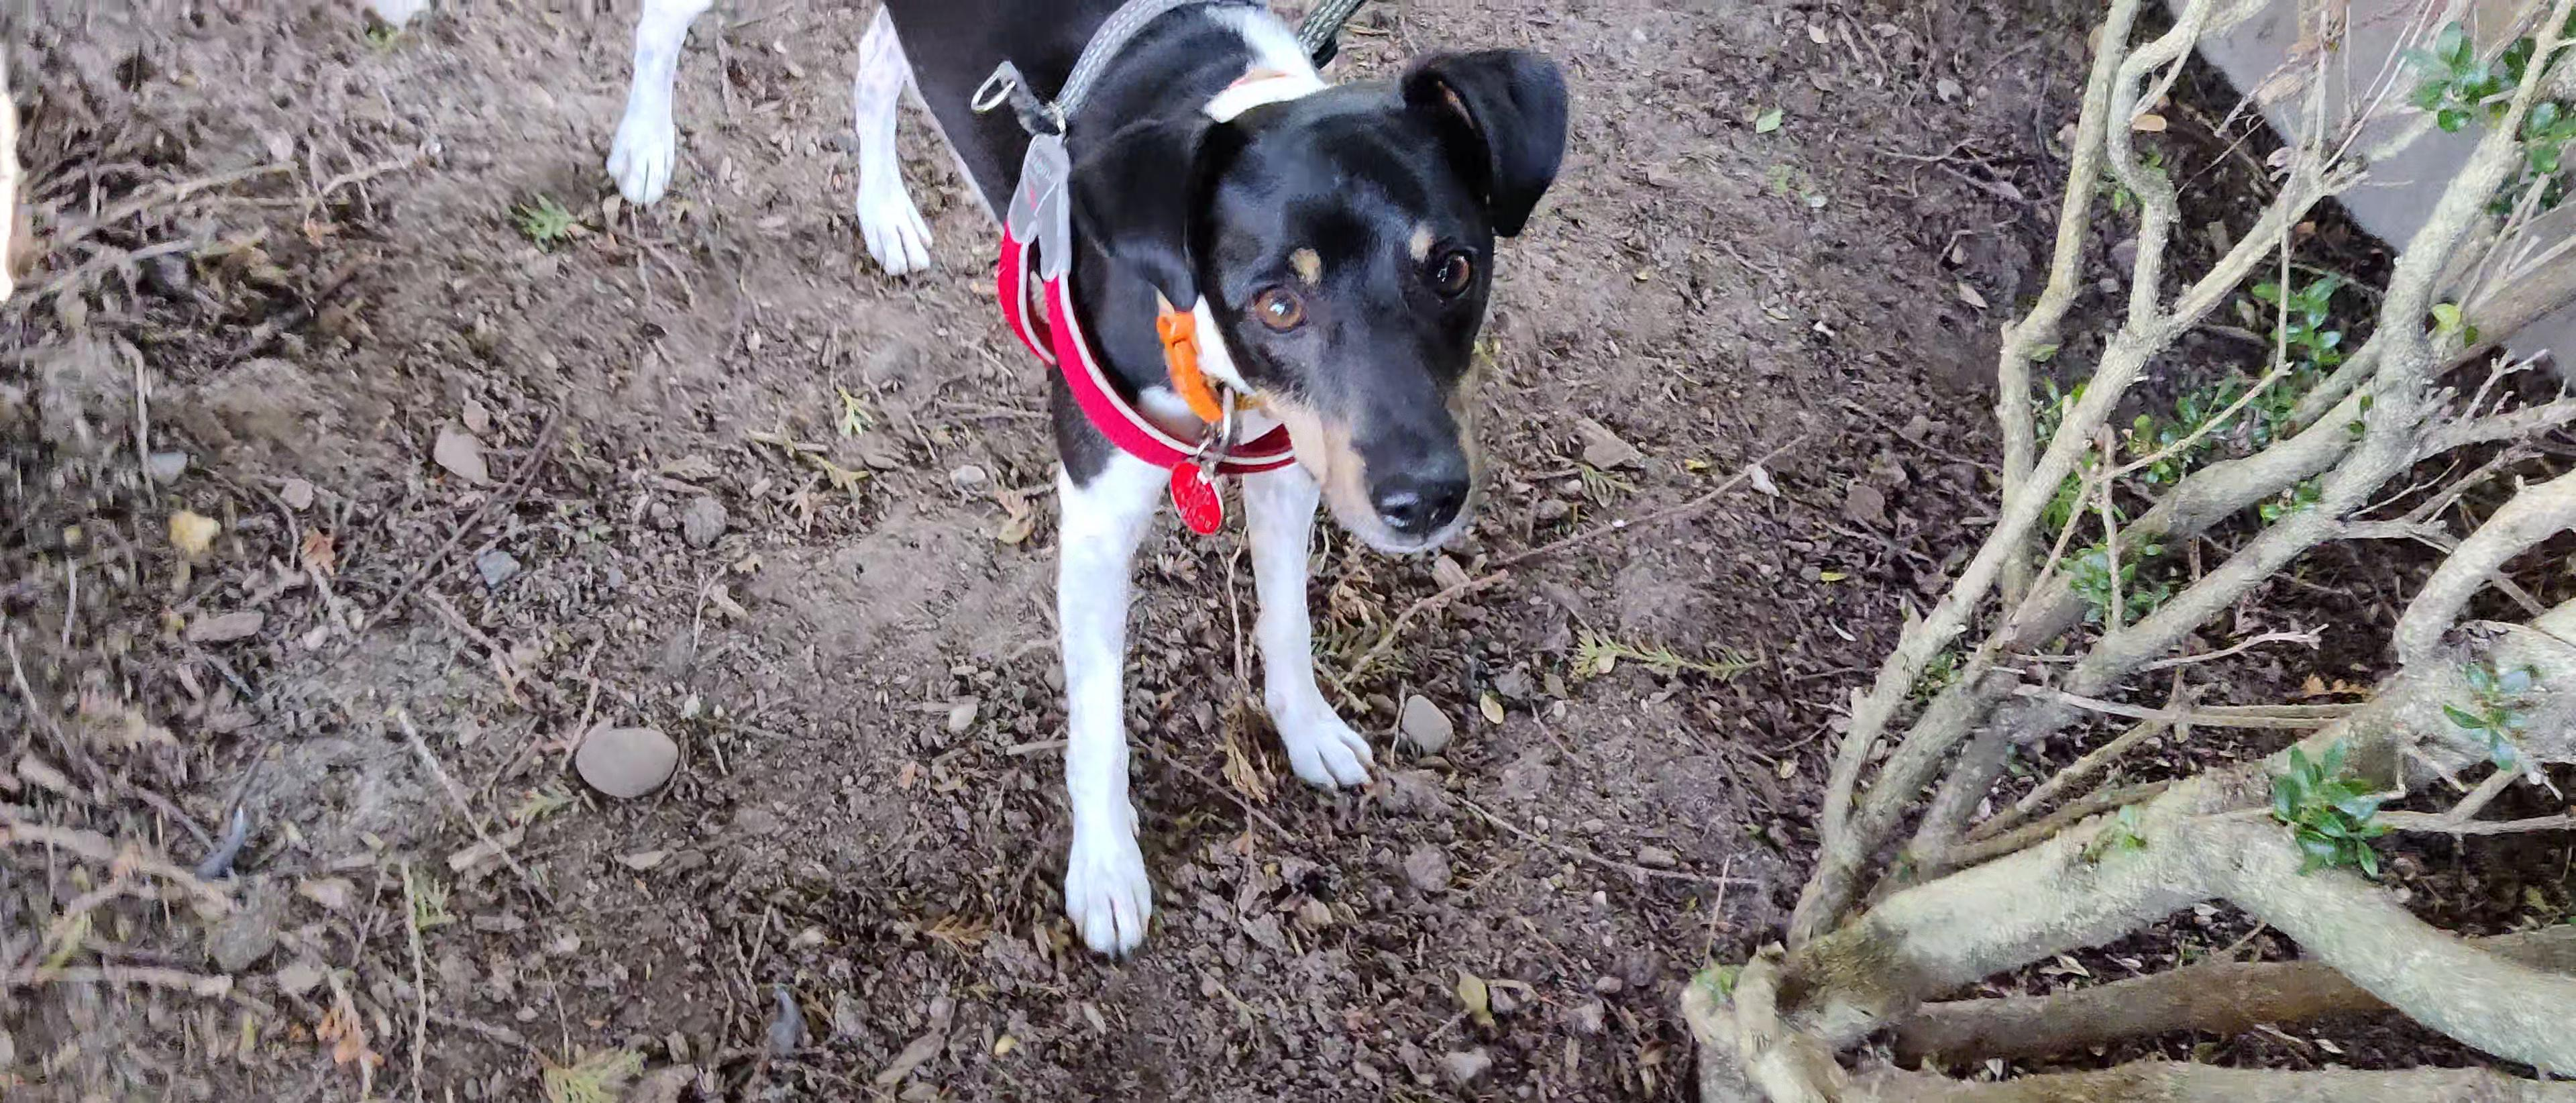Dog: (586, 0, 1579, 981)
